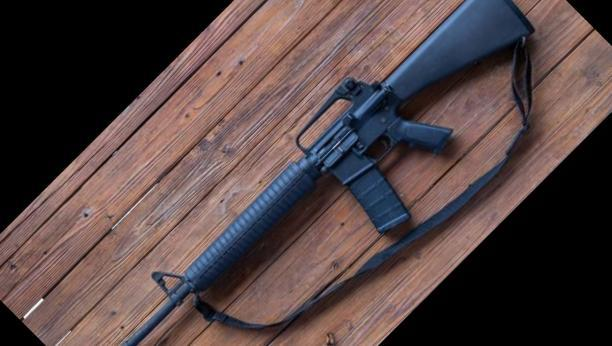larga: (120, 0, 535, 346)
